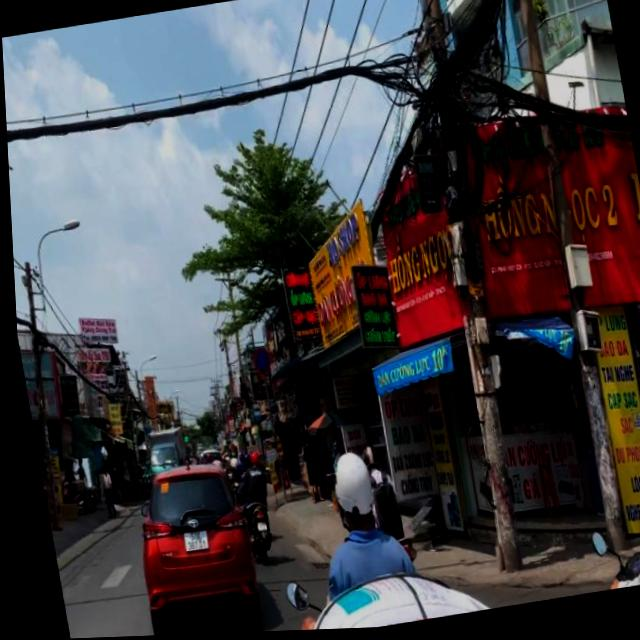Ben xe buyt: (246, 403, 258, 423)
Cam do xe: (247, 348, 268, 378)
